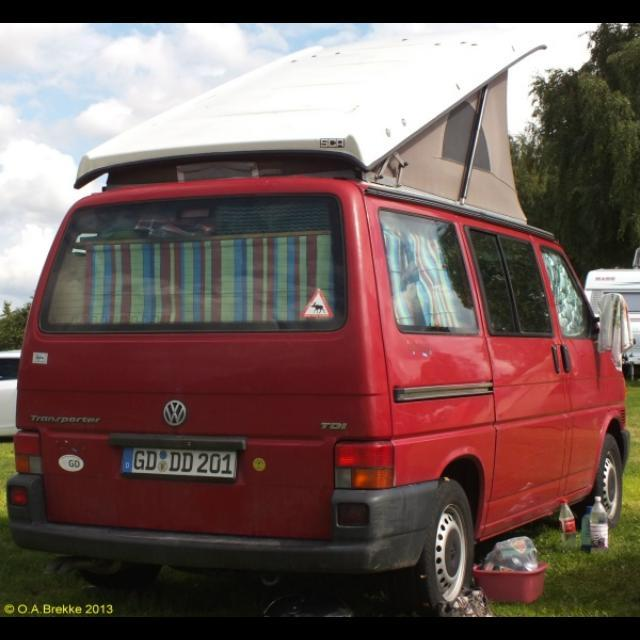license-plates: (123, 448, 235, 480)
